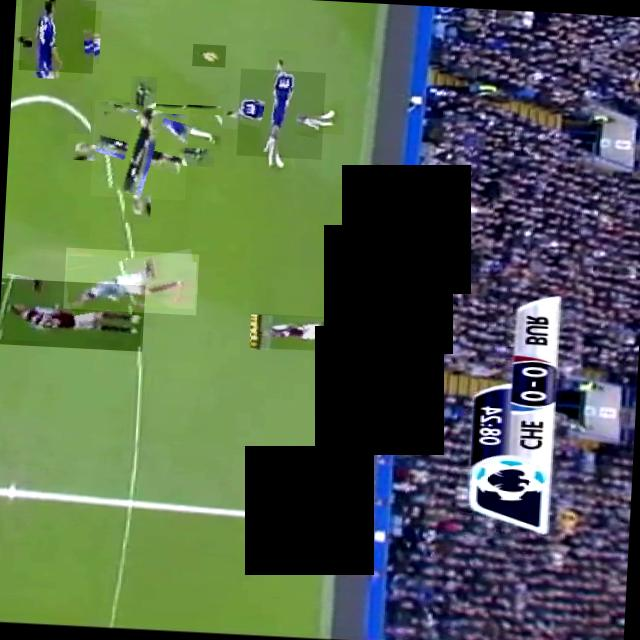ball: (192, 43, 226, 67)
referee: (90, 99, 190, 200)
soccer-player: (0, 277, 145, 350), (64, 247, 200, 314), (237, 68, 326, 158), (90, 100, 224, 150), (18, 0, 96, 73), (250, 312, 366, 352)
